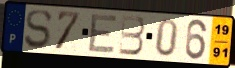0: (154, 18, 180, 58)
6: (184, 19, 208, 62)
7: (55, 10, 81, 51)
B: (118, 14, 146, 56)
E: (87, 14, 119, 54)
S: (23, 9, 54, 51)
